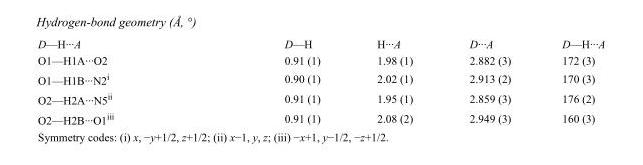table: (37, 37, 604, 125)
table column: (37, 37, 198, 125), (198, 37, 347, 125), (440, 37, 535, 125), (347, 37, 440, 125), (535, 37, 604, 125)
table row: (37, 68, 604, 88), (37, 88, 604, 108), (37, 51, 604, 68), (37, 108, 604, 125), (37, 37, 604, 51)
